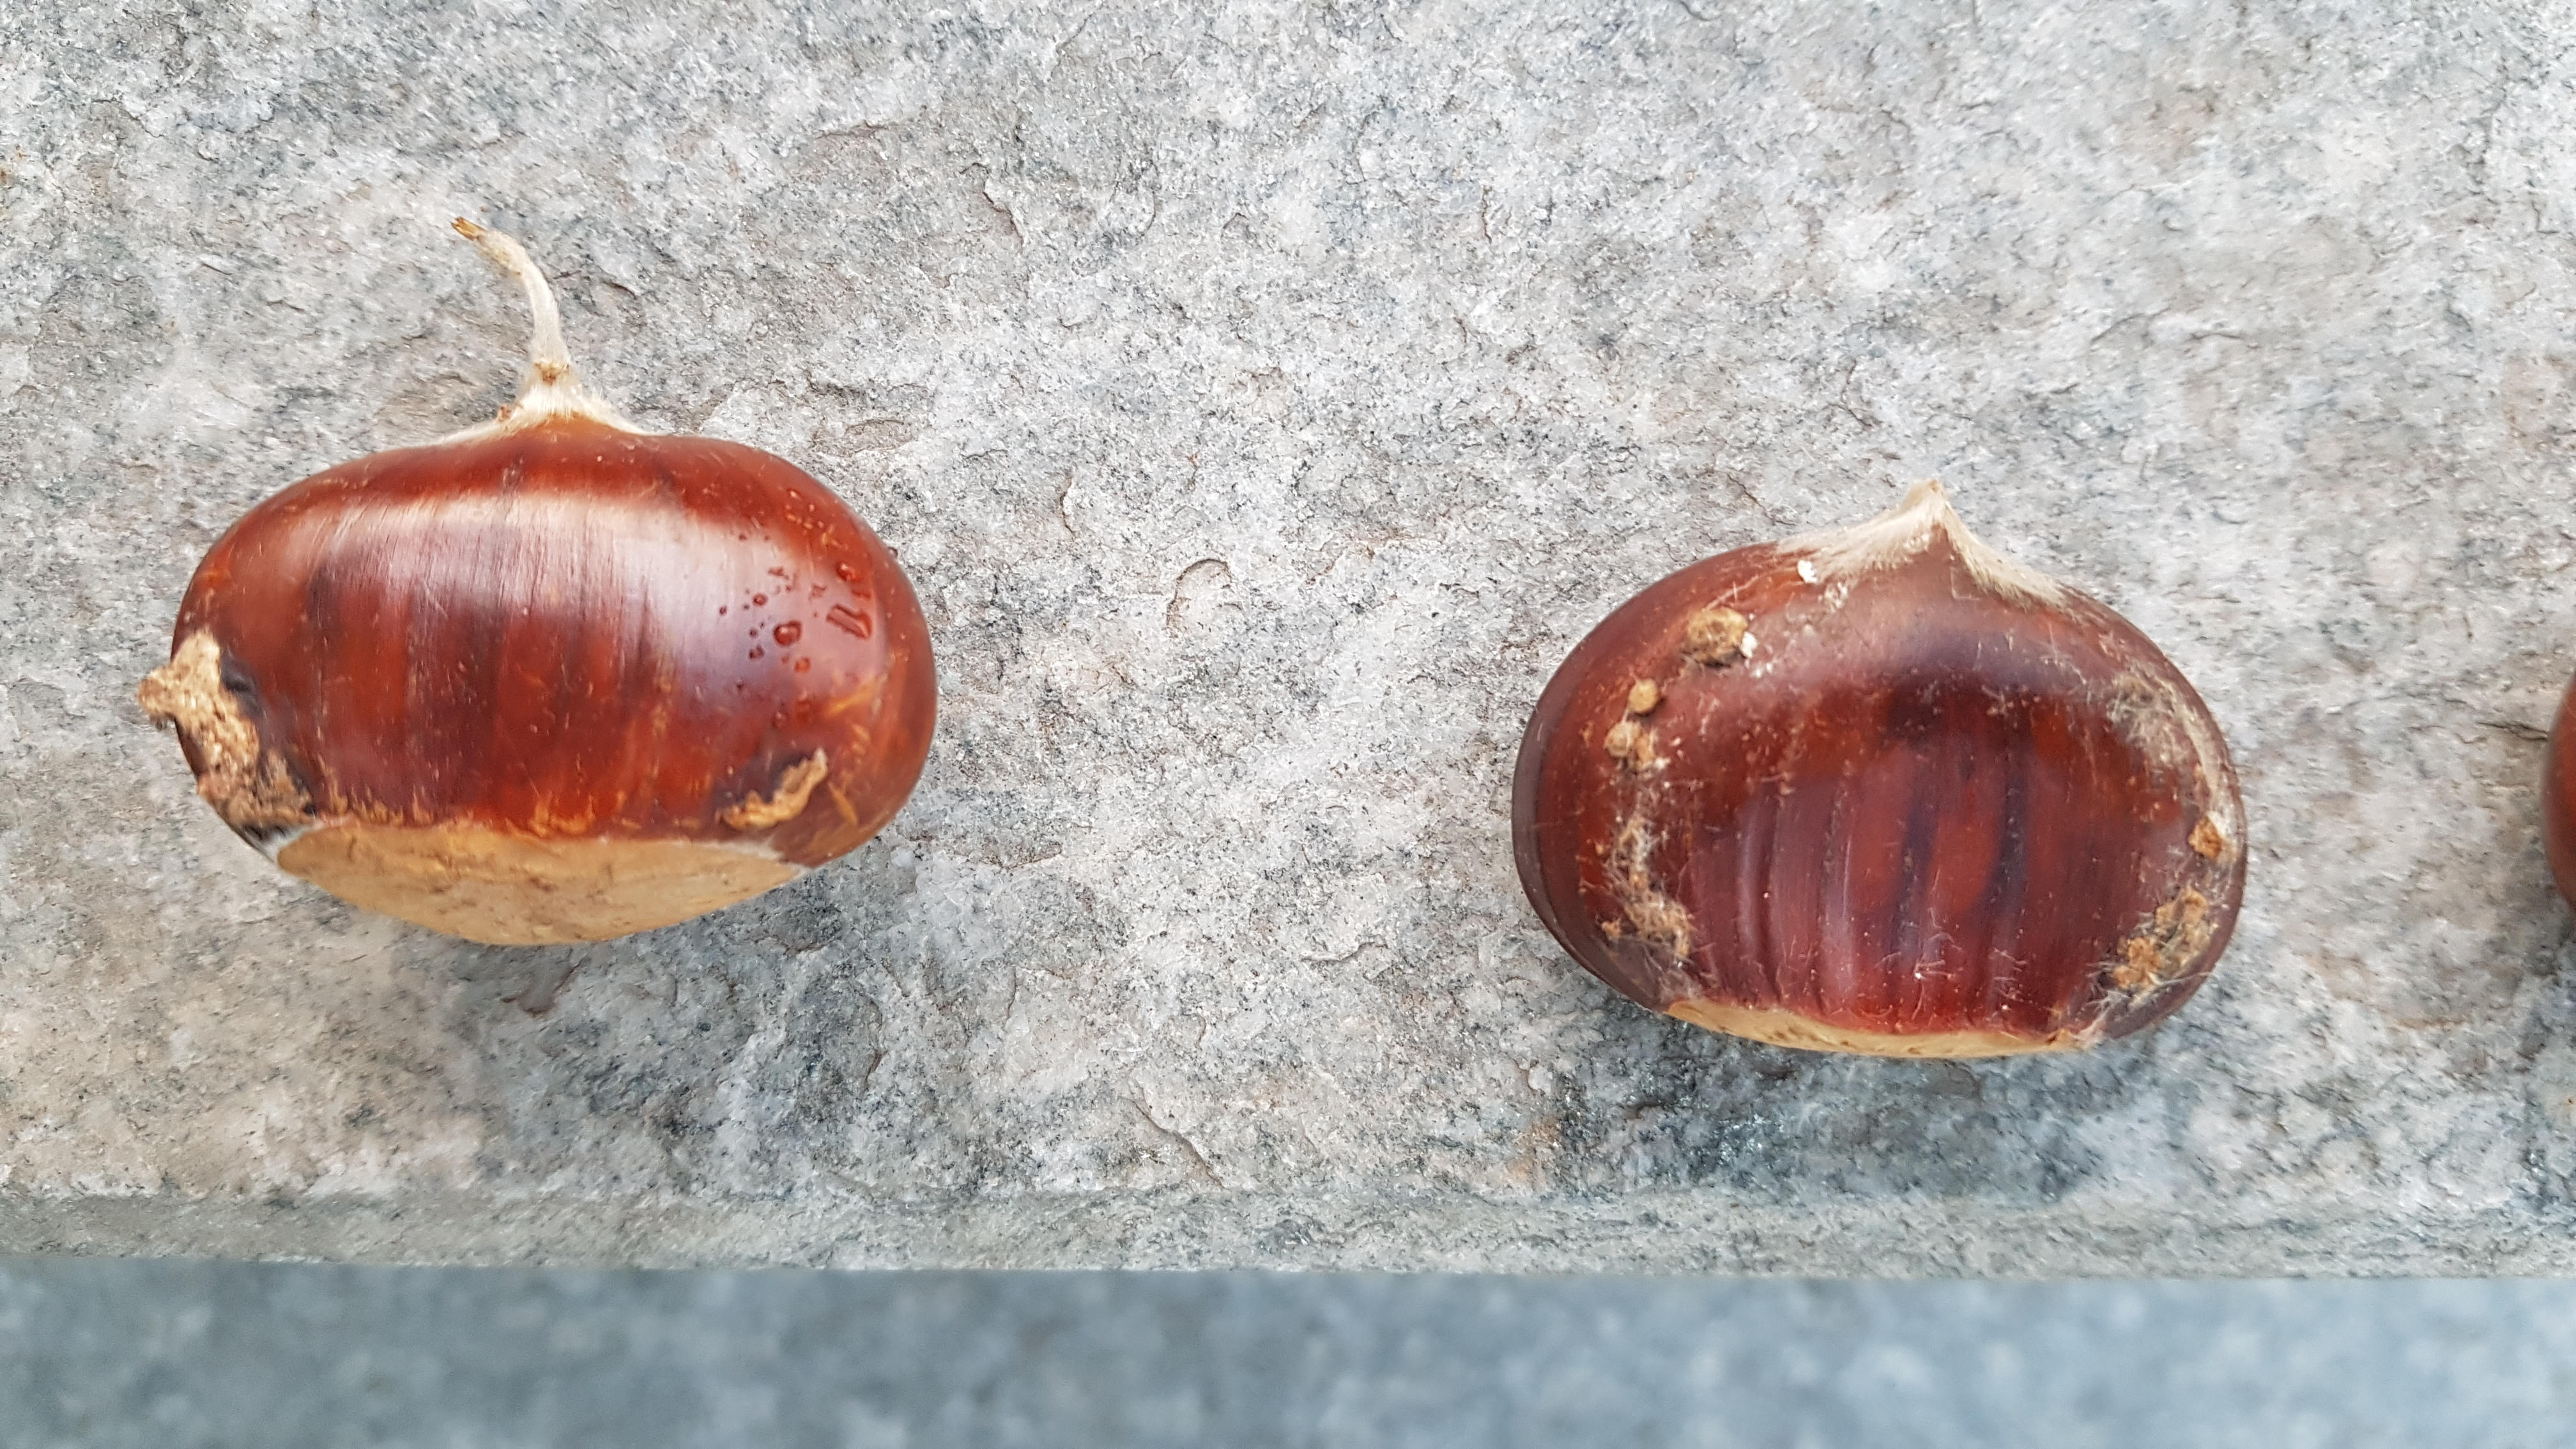camola: (1559, 580, 1822, 1005), (2070, 651, 2256, 1056), (127, 617, 324, 847), (690, 745, 860, 856)
